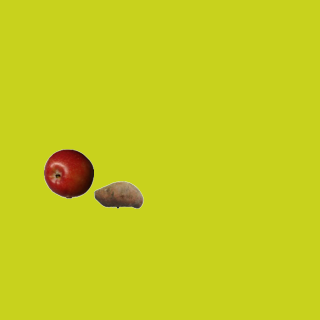Apple Braeburn: (43, 148, 93, 198)
Potato Sweet: (93, 169, 143, 219)
